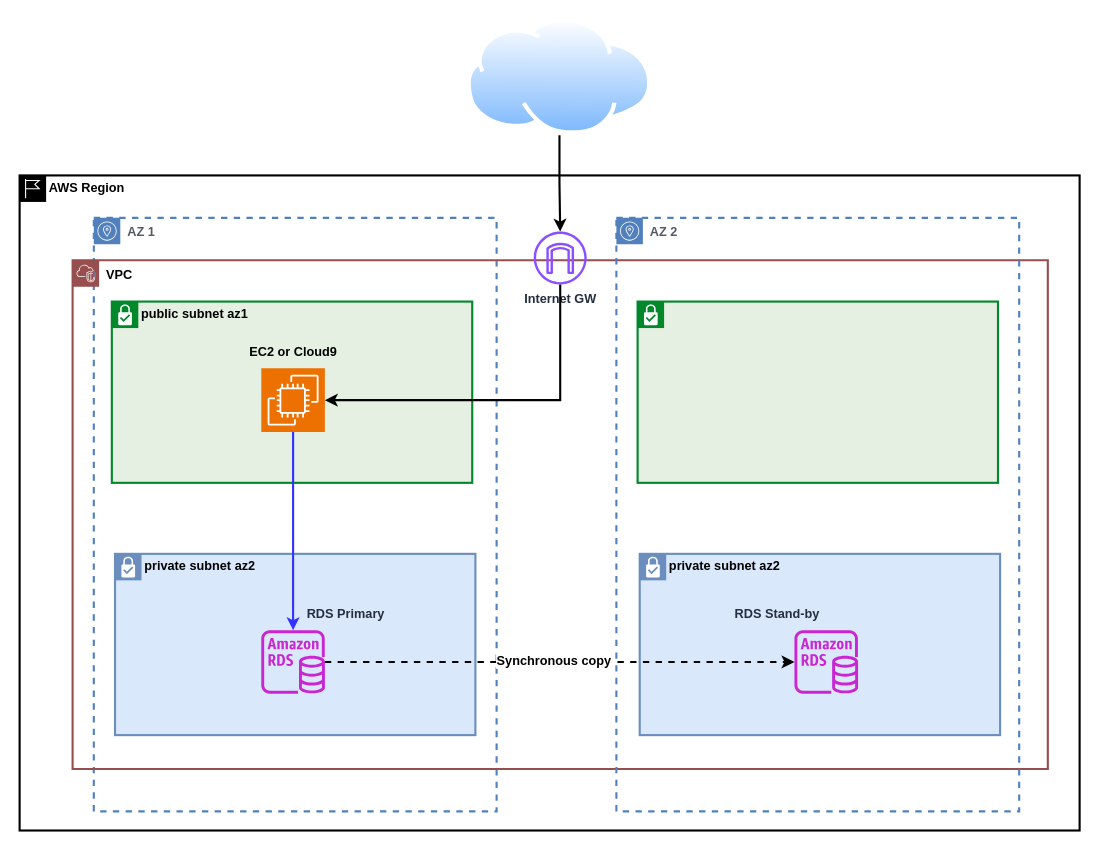
The diagram is 1098 pixels wide and 849 high, and some of its shapes have lost their labels. The centre of each missing label's shape, as x and y in pixels:
Internet: (558,76)
publis subnet az2: (817,391)
